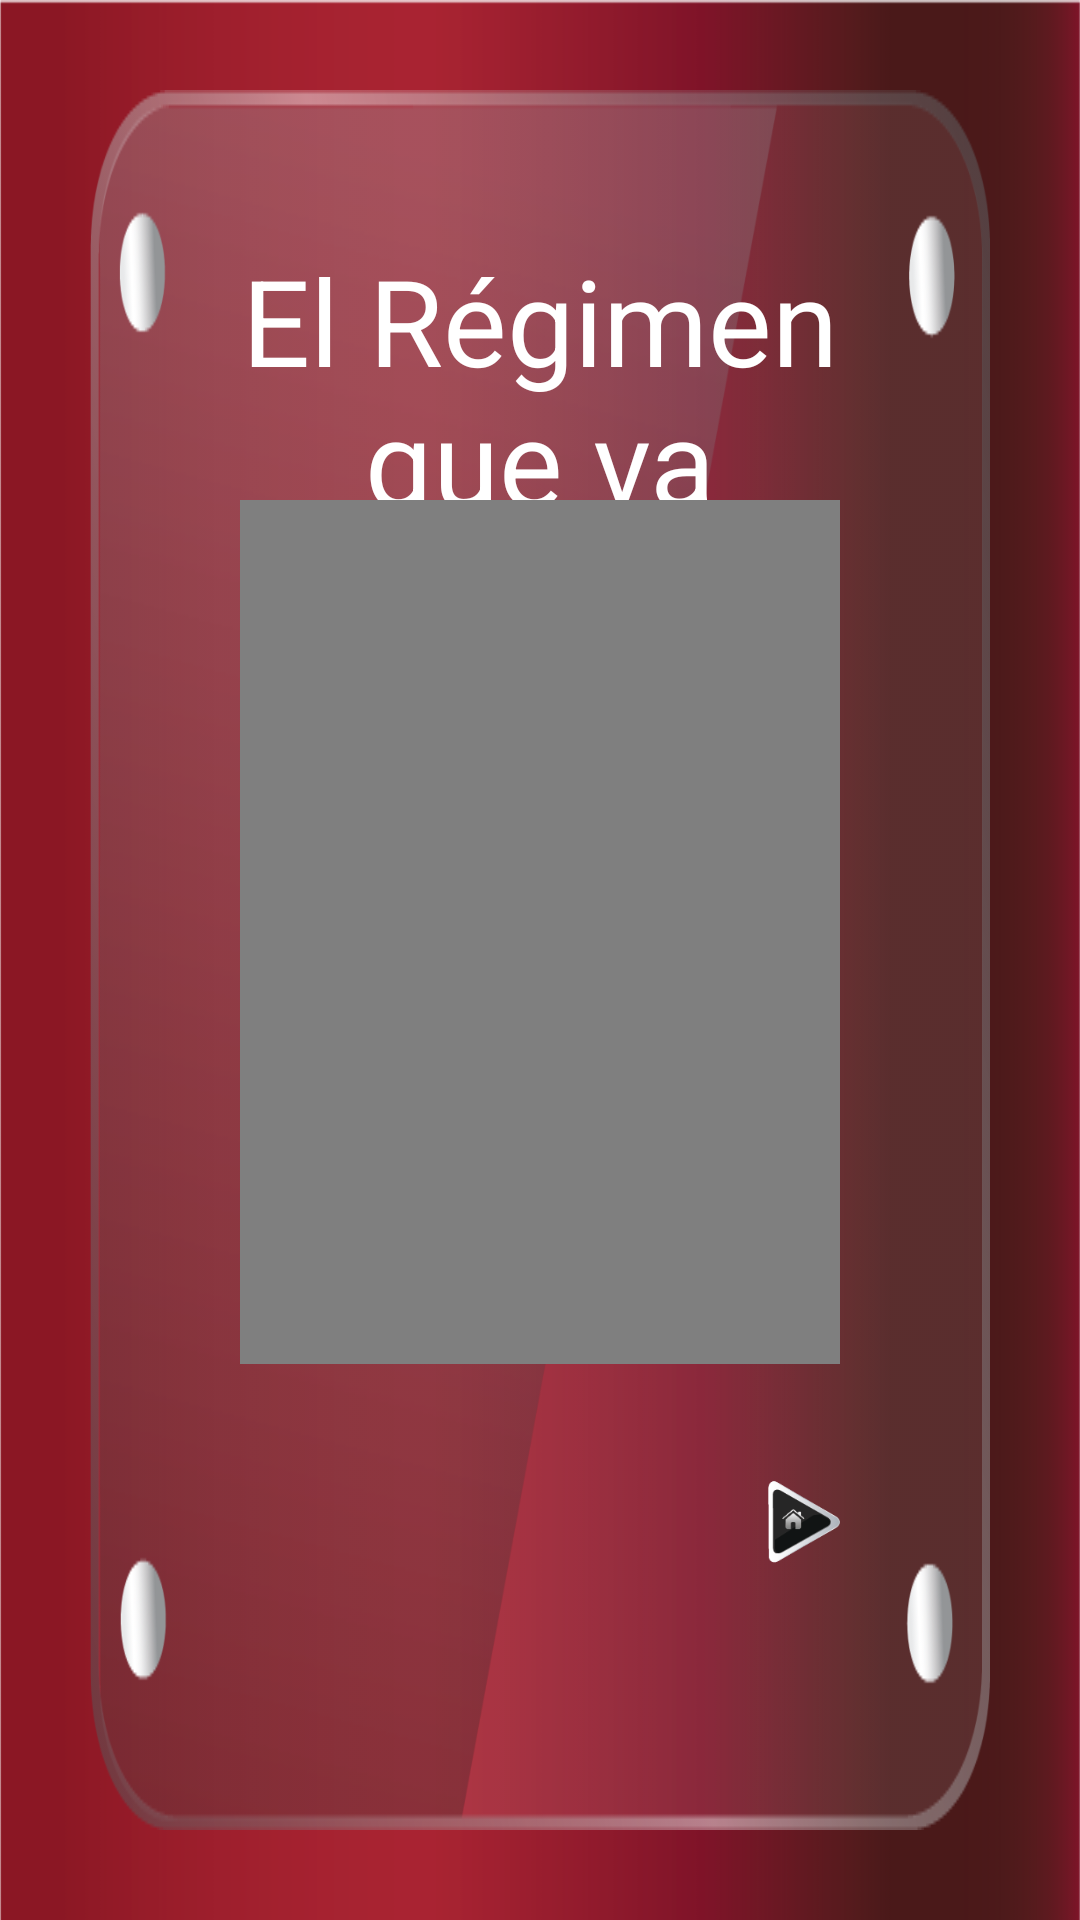

Screen size 1080px×1920px. Icon name, then its box in pixels as (x1, y1, x2, y2):
inicio: (768, 1481, 840, 1563)
